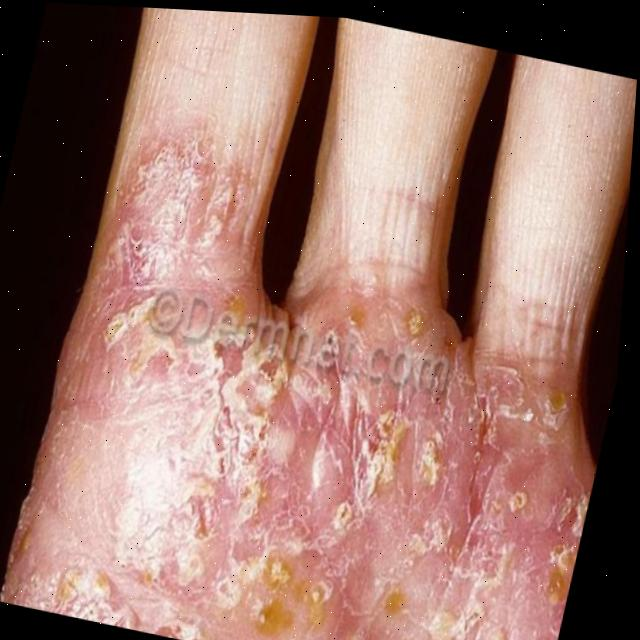Eczema: (29, 222, 611, 640)
